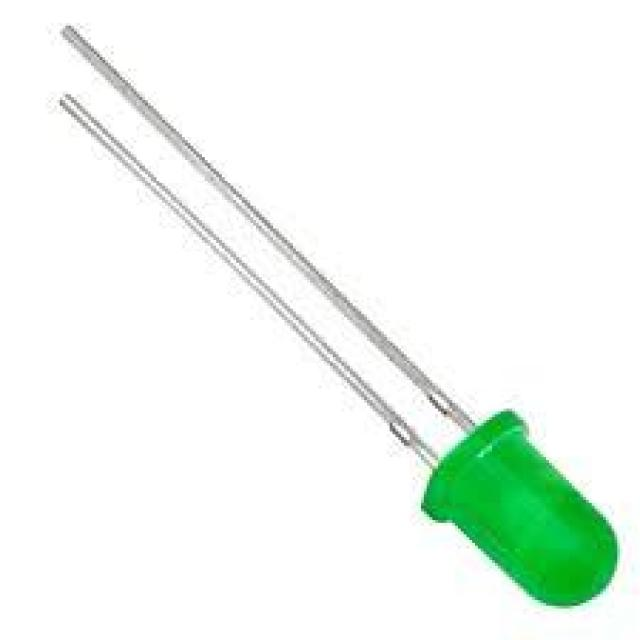Led: (62, 26, 618, 605)
